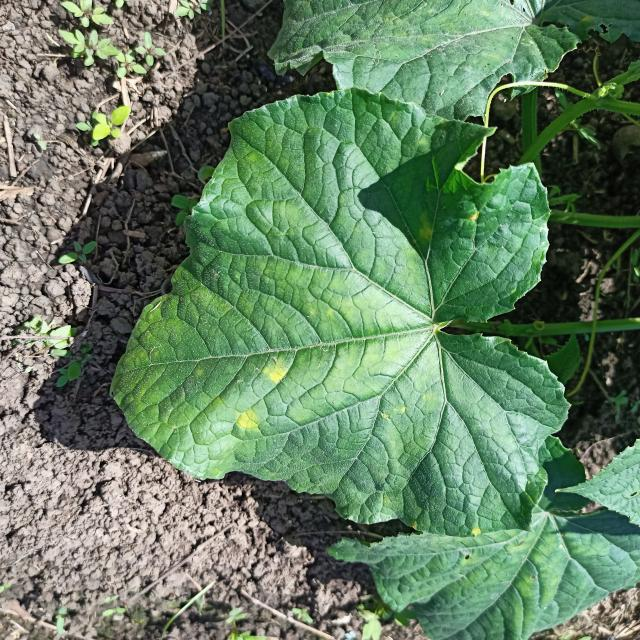disease_cucumber: (264, 362, 288, 386), (236, 408, 258, 431), (472, 527, 481, 536)
